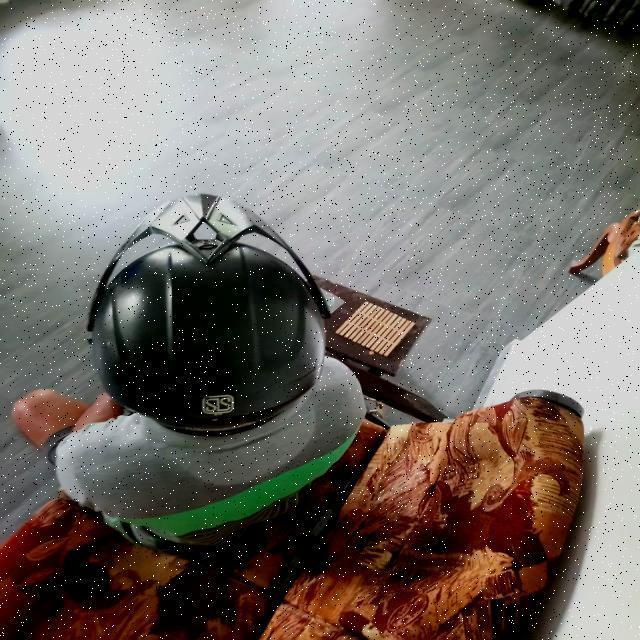helmet: (85, 194, 332, 437)
